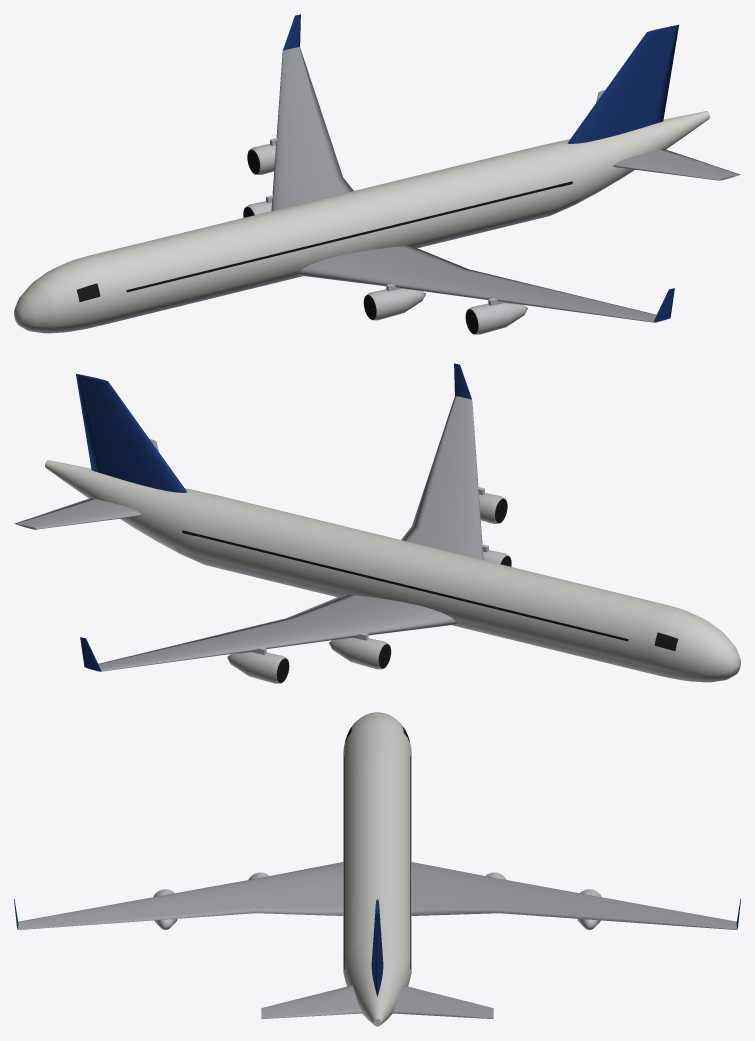
3 views of the same model, one above another, from view 1: azimuth 30°, elevation 25°; view 2: azimuth 150°, elevation 25°; view 3: azimuth 270°, elevation 25° (orthographic). The views are drawn at different scales.
Visible parts, largest first — view 1: a343; view 2: a343; view 3: a343.
Boxes of the visible parts, <box> form: a343: <box>14,14,740,334</box>; a343: <box>14,363,740,683</box>; a343: <box>14,712,740,1026</box>.
Size of the model in its own units: 63.69 by 14.2 by 59.69.
